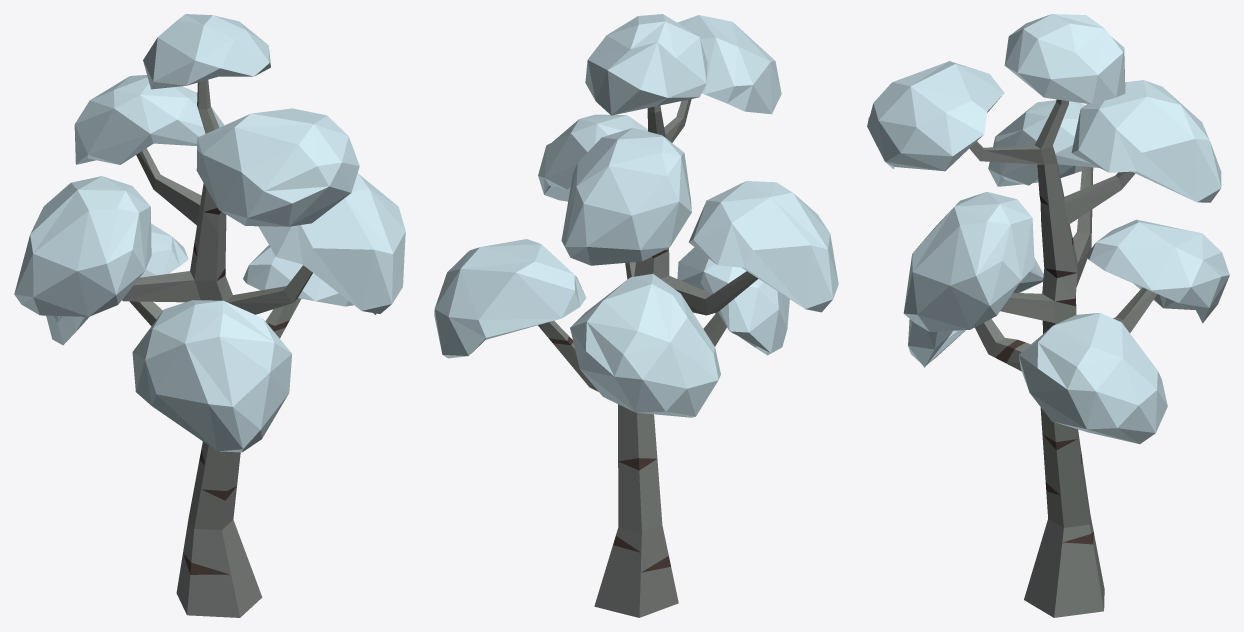
Rendered from SM_Env_TreeBirch_01_Snow.gltf.
3 views of the same model, side by side, from view 1: azimuth 30°, elevation 25°; view 2: azimuth 150°, elevation 25°; view 3: azimuth 270°, elevation 25° (orthographic). The views are drawn at different scales.
Visible parts, largest first — view 1: SM_Env_TreeBirch_01_Snow; view 2: SM_Env_TreeBirch_01_Snow; view 3: SM_Env_TreeBirch_01_Snow.
Boxes of the visible parts, <box> form: SM_Env_TreeBirch_01_Snow: <box>14,14,405,617</box>; SM_Env_TreeBirch_01_Snow: <box>434,14,838,617</box>; SM_Env_TreeBirch_01_Snow: <box>867,14,1229,617</box>.
Size of the model in its own units: 4.03 by 5.92 by 3.38.
1 material, 1 textured.
